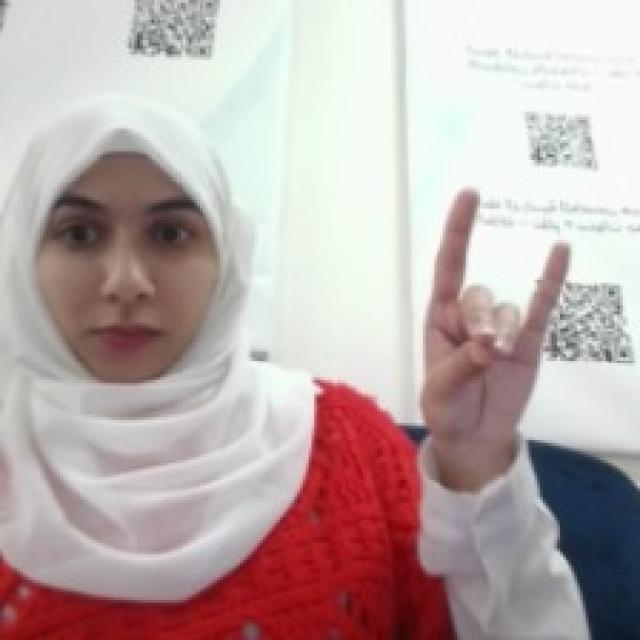Dog: (414, 180, 572, 454)
